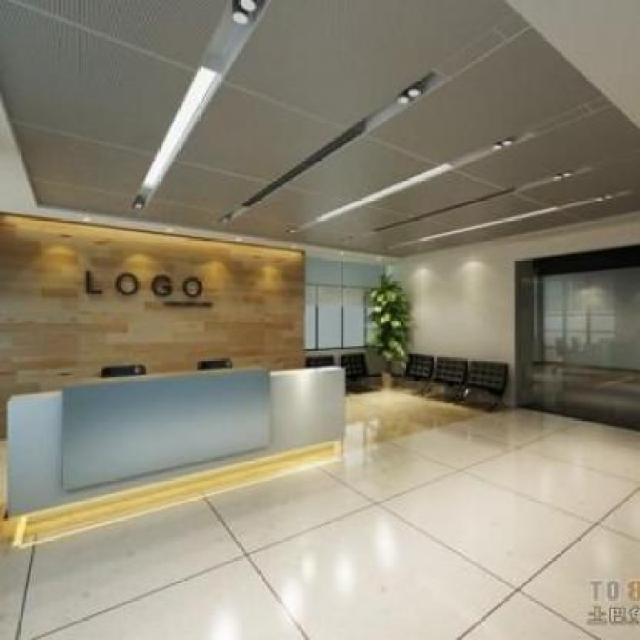frontdesk: (0, 354, 355, 560)
